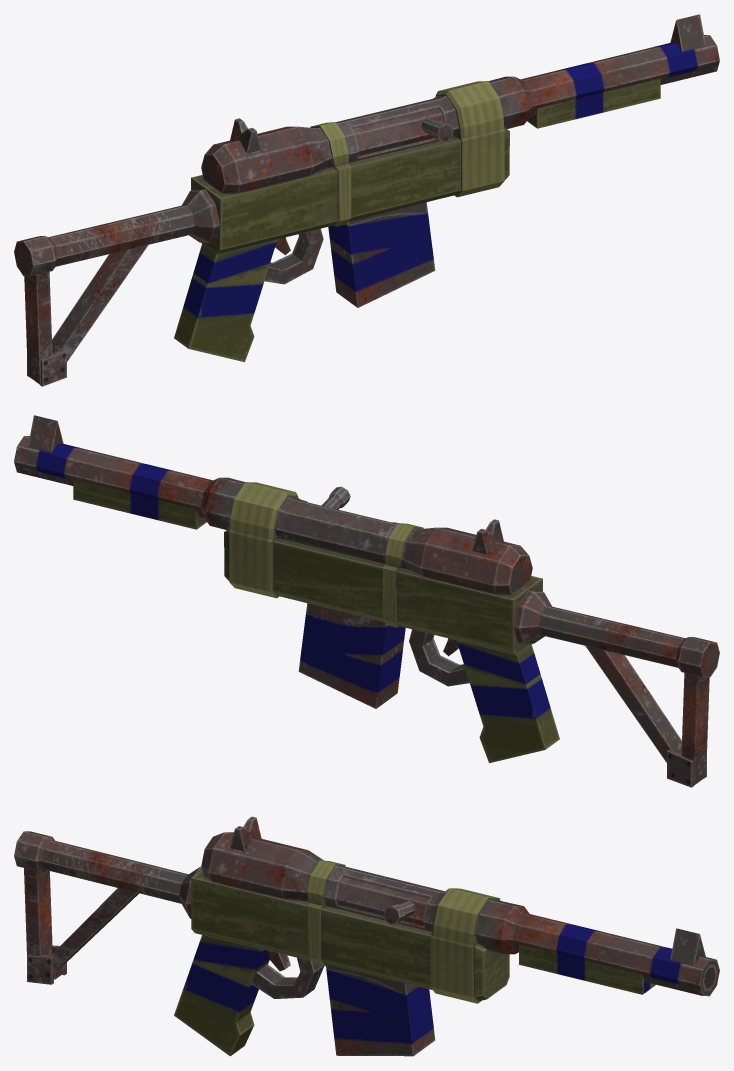
File: Berdanka.fbx
3 renders of one model, top to bottom at view 1: azimuth 30°, elevation 25°; view 2: azimuth 150°, elevation 25°; view 3: azimuth 330°, elevation 25°, orthographic.
Parts seen in each view (by area): view 1: Berdanka; view 2: Berdanka; view 3: Berdanka.
Part boxes in pixels (left/top/right/bottom): Berdanka: left=14, top=14, right=719, bottom=386; Berdanka: left=14, top=415, right=719, bottom=787; Berdanka: left=14, top=816, right=719, bottom=1056.
Size of the model in its own units: 125 by 40.12 by 13.97.
